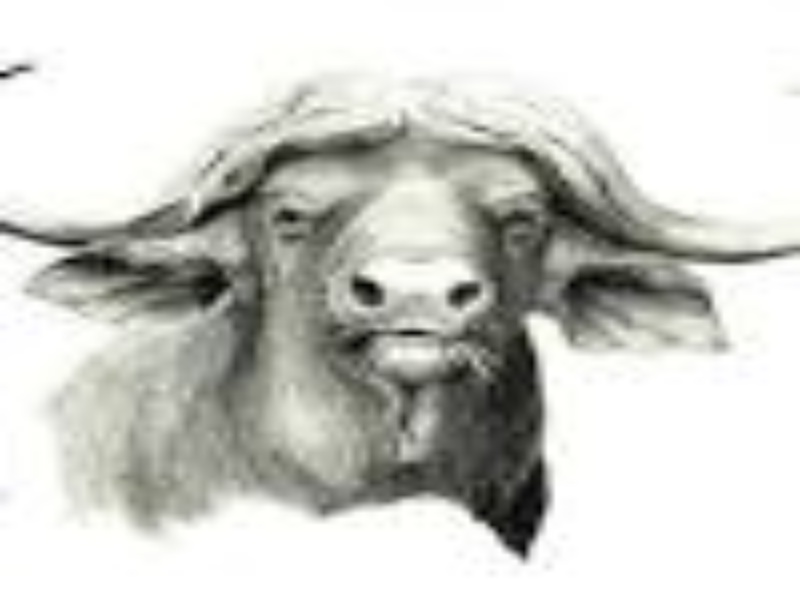buffalo: (71, 84, 755, 565)
